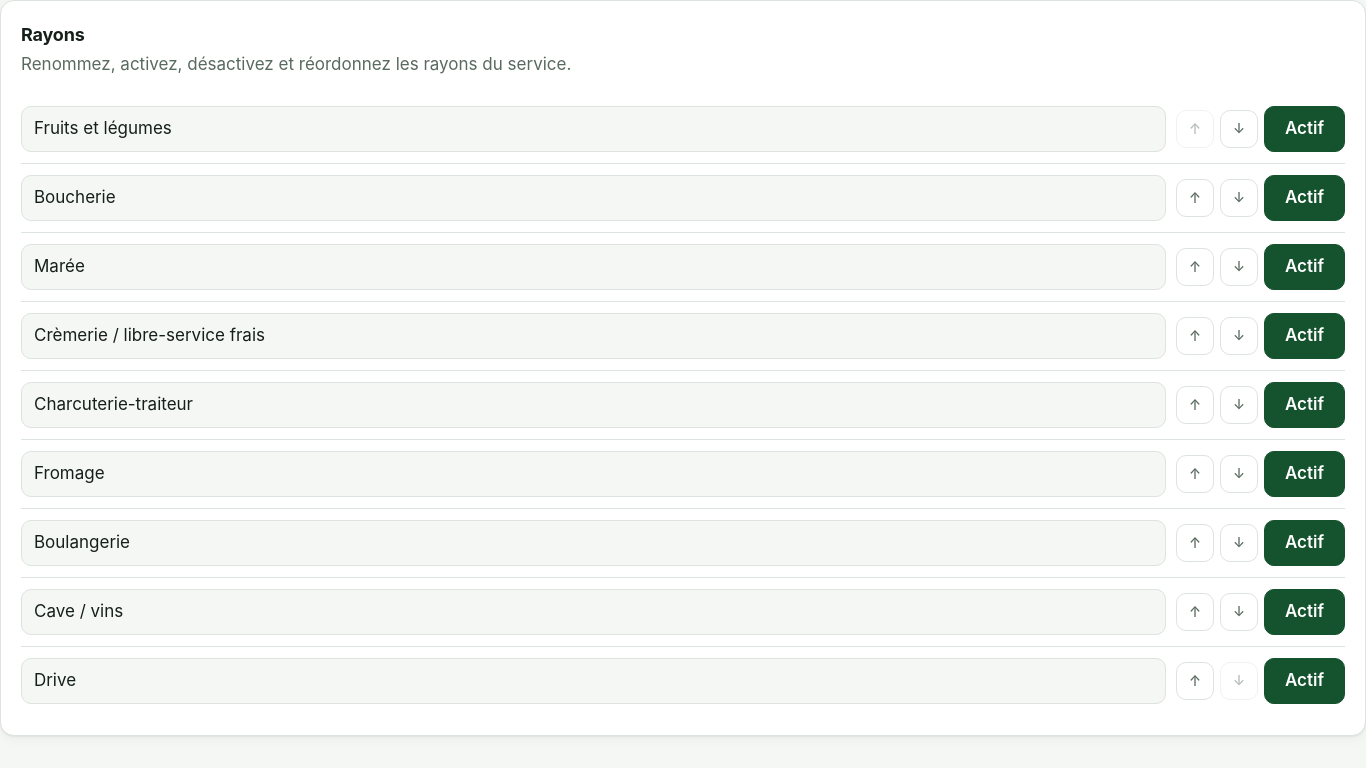
Test: reglage des rayons › desactive un rayon
Click the 1st button "Actif".
click(1304, 128)  # box [1264,106,1345,152]
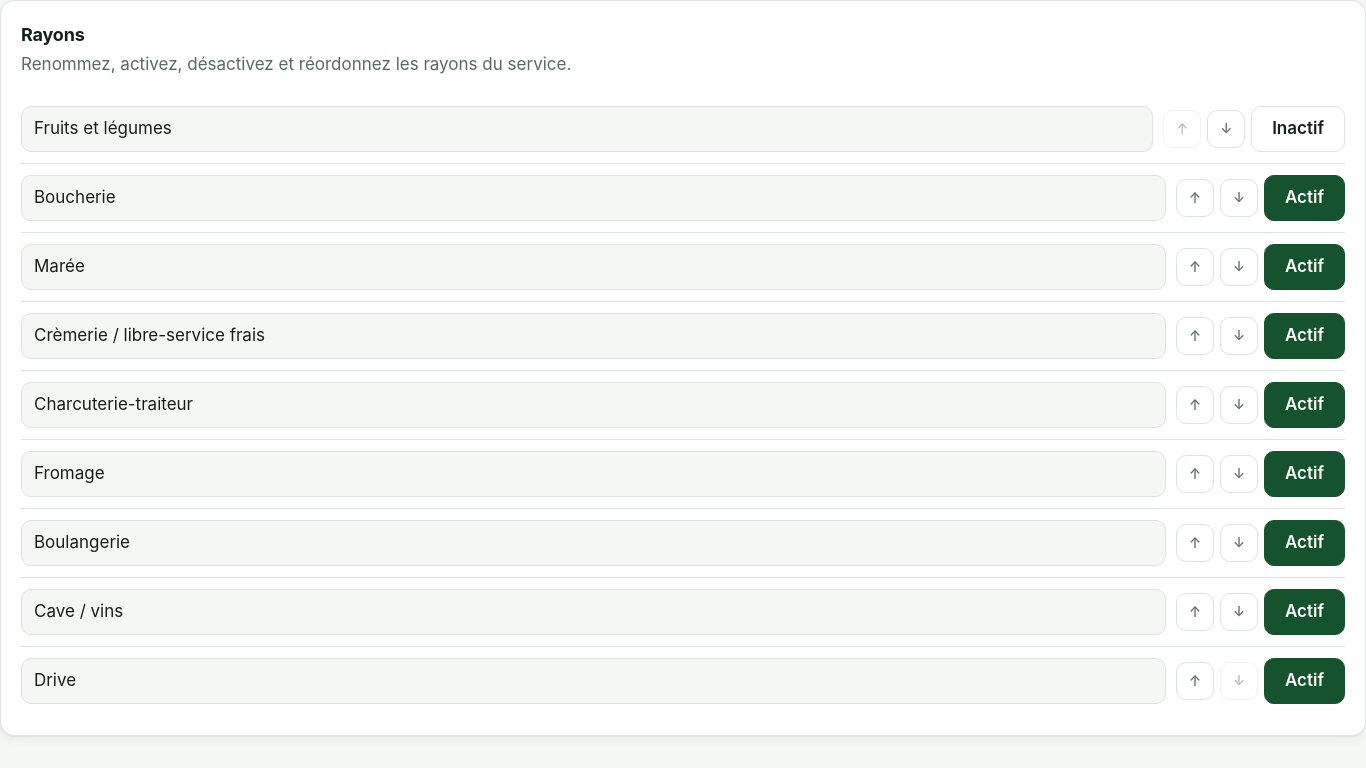
Expected: the button "Inactif" is shown, [1251,106,1345,152]
